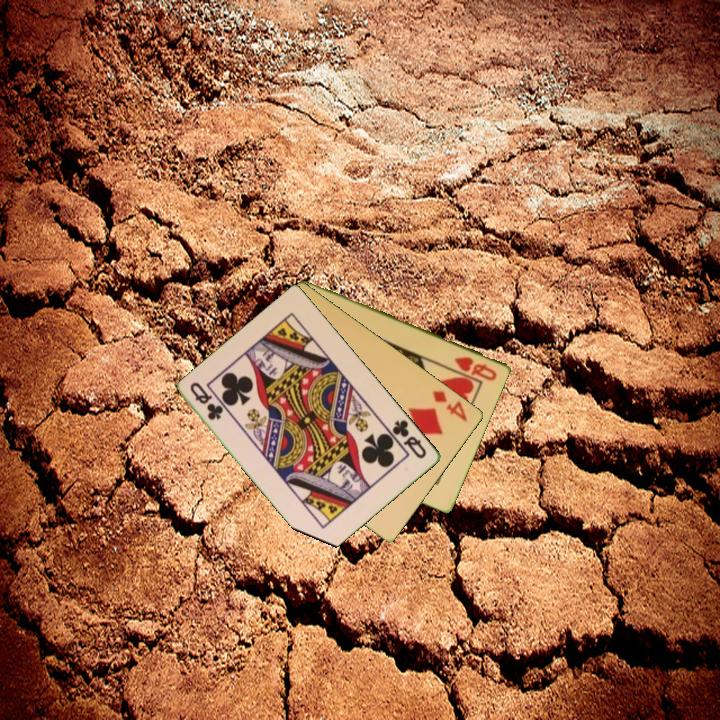4d: (429, 387, 471, 425)
Qc: (389, 416, 430, 462), (187, 378, 227, 423)
Qh: (451, 353, 500, 384)
